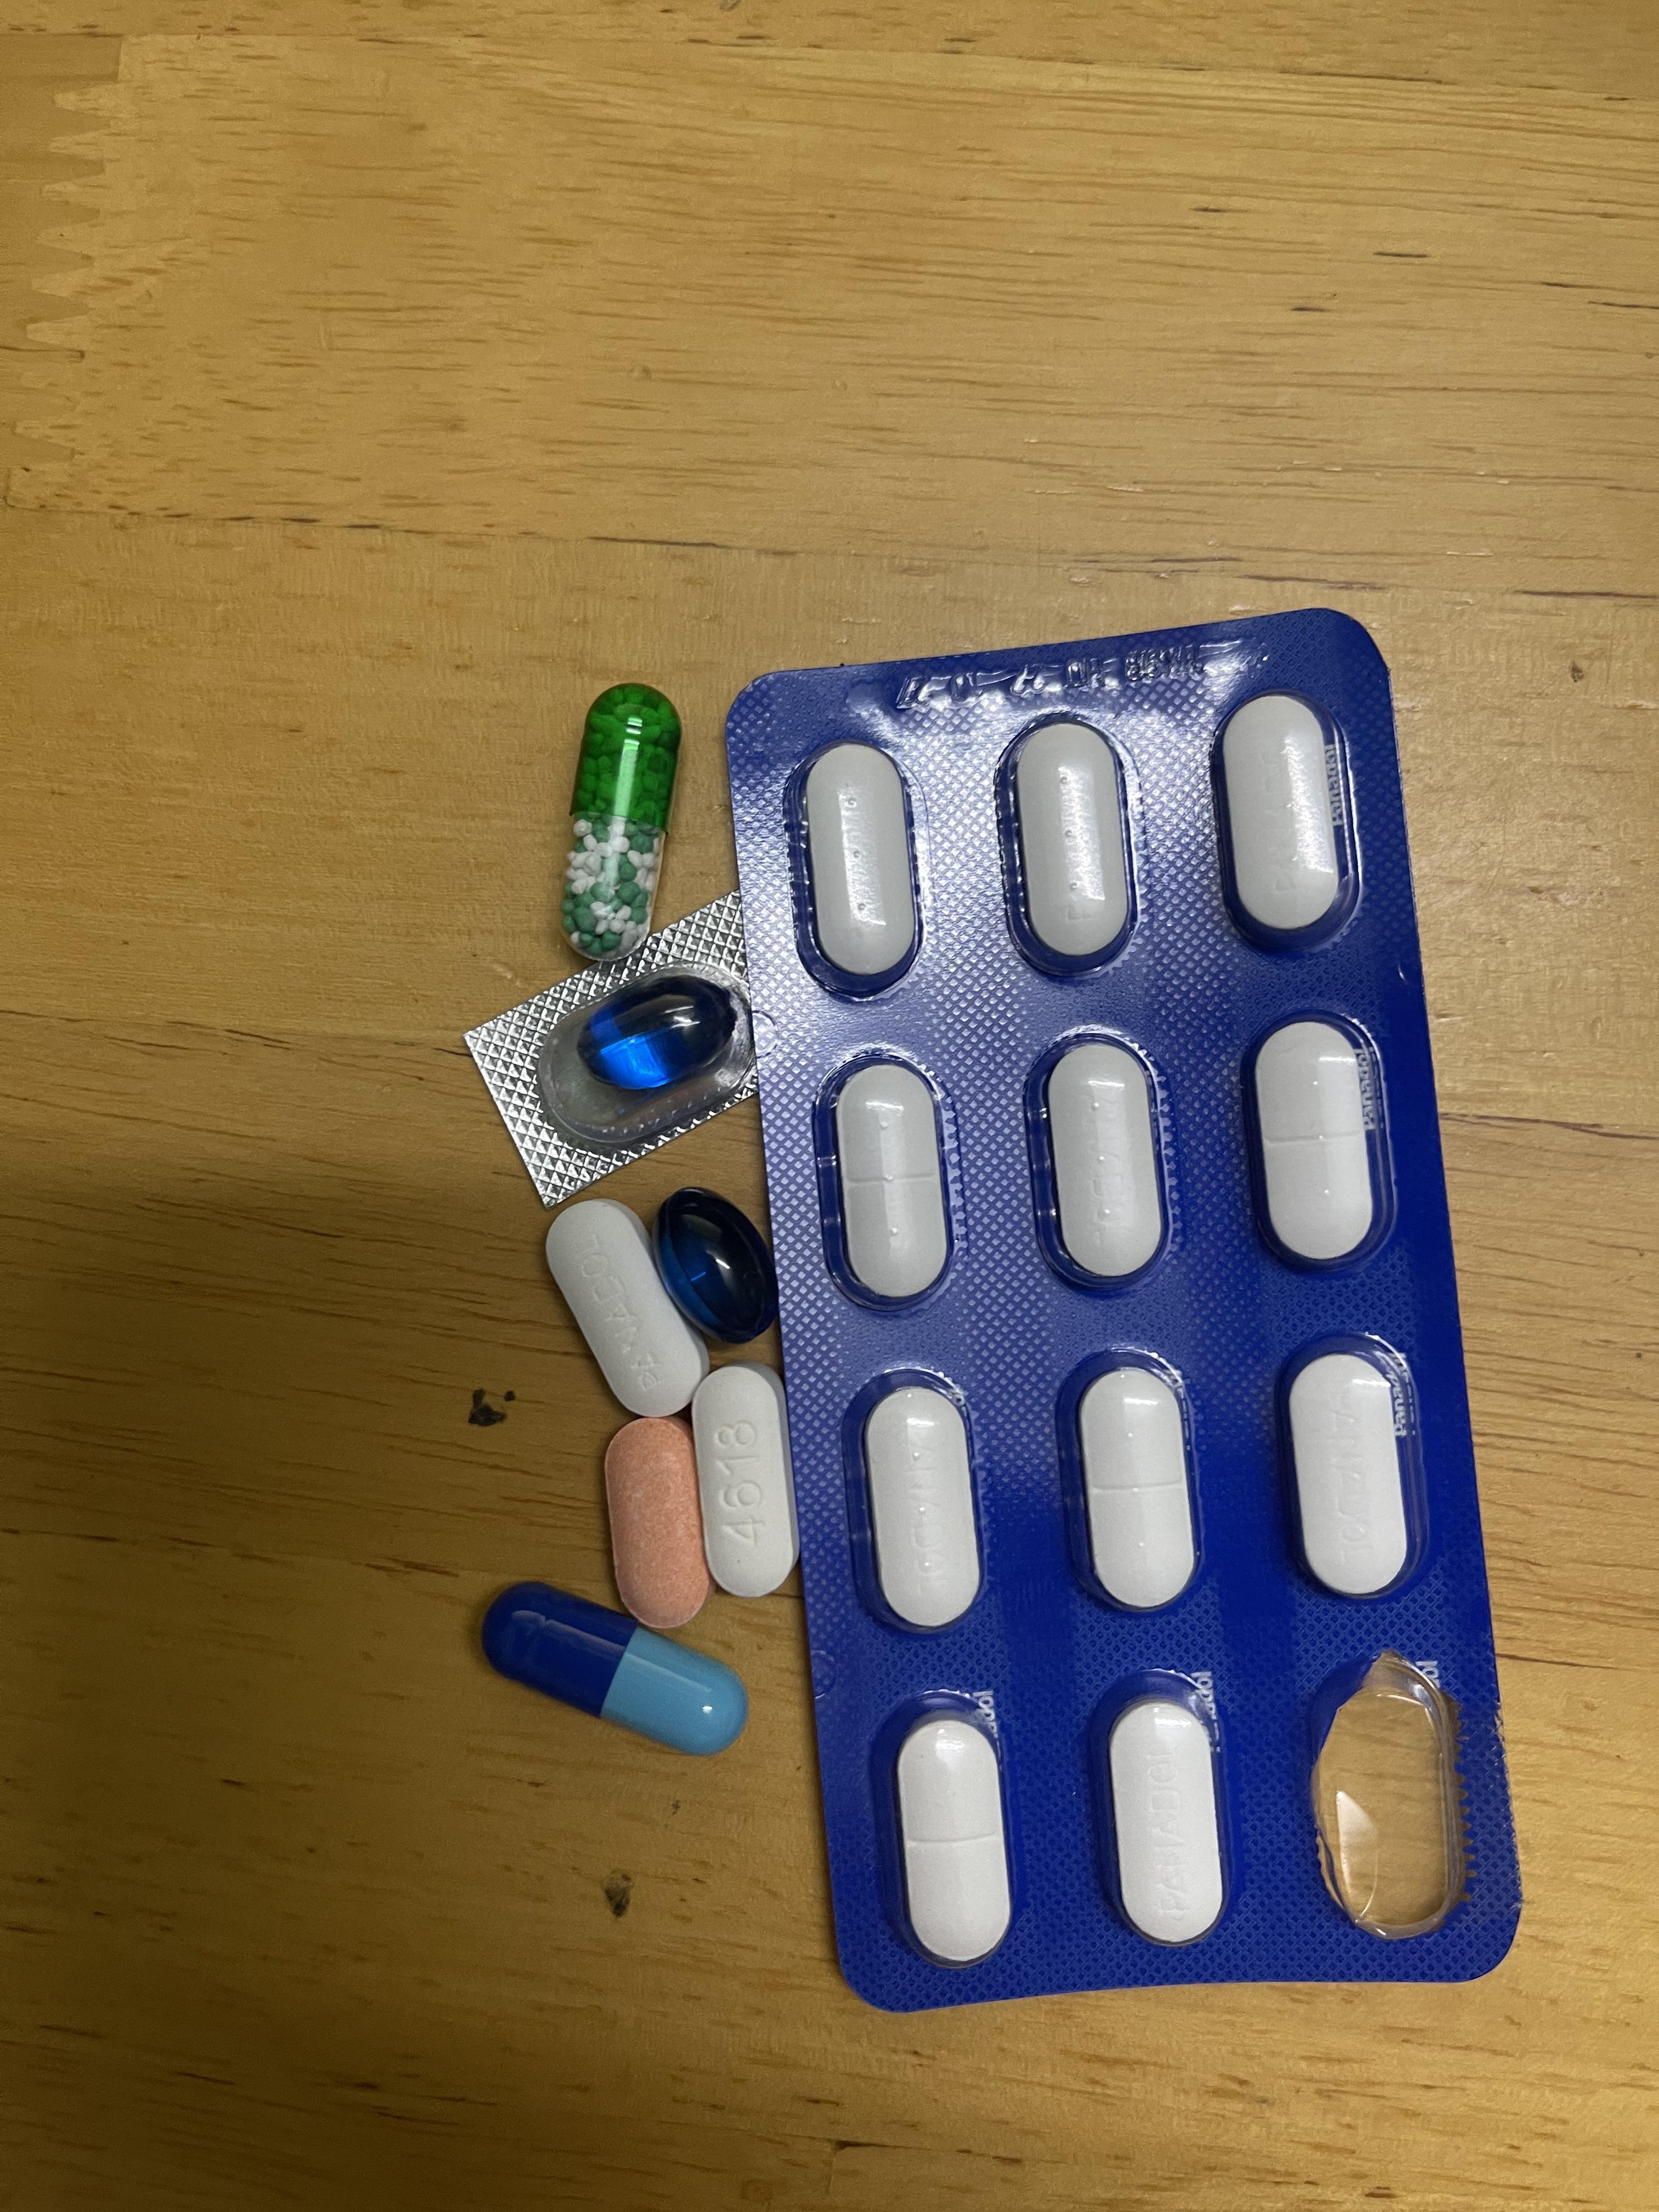Lincomyxin_500mg: (652, 1191, 769, 1343), (586, 982, 735, 1092)
Loratadine_10mg: (605, 1416, 708, 1622)
Paracetamol_350mg: (1277, 1334, 1429, 1606), (1243, 1014, 1398, 1278), (1056, 1350, 1204, 1618), (1087, 1674, 1230, 1951), (1026, 1031, 1175, 1298), (873, 1693, 1014, 1968), (814, 1052, 960, 1312), (847, 1367, 986, 1632), (547, 1202, 706, 1414), (1222, 690, 1345, 942), (802, 742, 918, 989), (1012, 723, 1129, 968)
Paracetamol_500mg: (694, 1369, 796, 1595)
Paracetamol_650mg: (565, 686, 678, 951)
pill: (486, 1588, 742, 1754)
